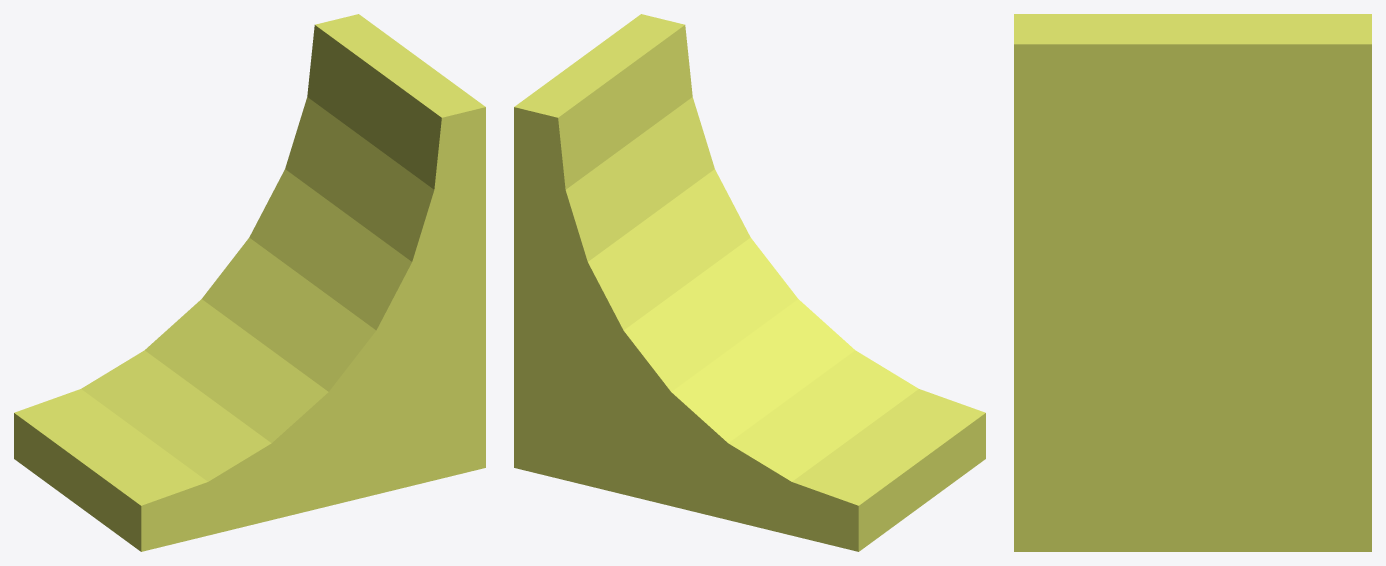
The model's file is Rampa Frontal.fbx.
3 views of the same model, side by side, from view 1: azimuth 30°, elevation 25°; view 2: azimuth 150°, elevation 25°; view 3: azimuth 270°, elevation 25° (orthographic). The views are drawn at different scales.
Parts seen in each view (by area): view 1: Cube.001; view 2: Cube.001; view 3: Cube.001.
Part boxes in pixels (bbox=[...]): Cube.001: bbox=[14, 14, 485, 551]; Cube.001: bbox=[514, 14, 985, 551]; Cube.001: bbox=[1014, 14, 1371, 551].
Size of the model in its own units: 9.02 by 9.02 by 5.76.
